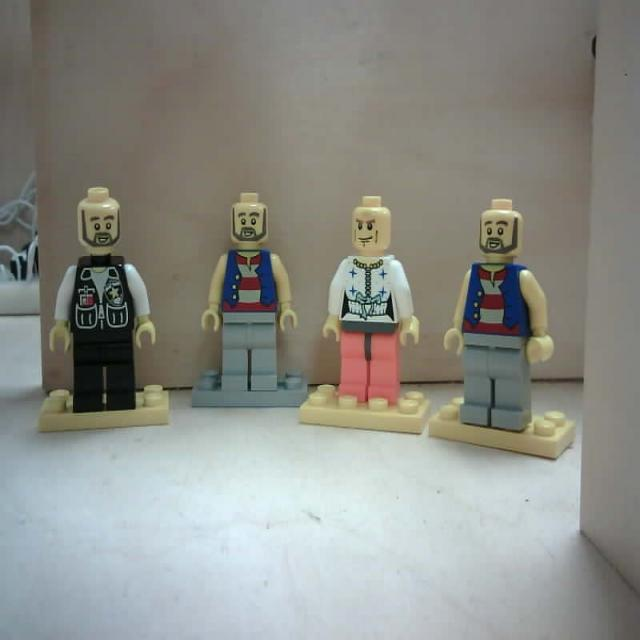Lego-People: (426, 196, 580, 466), (34, 167, 175, 440), (296, 193, 440, 442), (187, 188, 314, 414)
